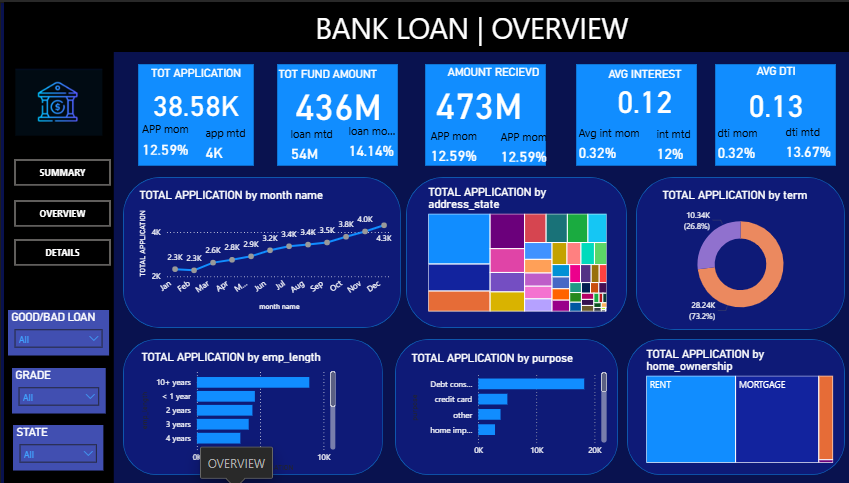

What the dashboard file says about the page in this screenshot:
{"tool":"powerbi","page":{"name":"OVERVIEW","canvas":[1280,720],"ordinal":1},"visuals":[{"type":"shape","box":[4.5,0,1269.7,720],"z":0},{"type":"card","title":"AVG DTI","fields":{"Values":["date.Avg dti"]},"box":[1074.5,92.1,176.2,95.2],"z":0,"group":"g4"},{"type":"card","title":"TOT APPLICATION","fields":{"Values":["date.TOTAL APPLICATION"]},"box":[199.8,95.2,194.1,90.8],"z":0,"group":"g1"},{"type":"card","title":"TOT FUND AMOUNT","fields":{"Values":["date.TOT LOAN AMOUNT"]},"box":[415.9,96.8,188.8,87.4],"z":0,"group":"g5"},{"type":"card","title":"AVG INTEREST","fields":{"Values":["date.avg int"]},"box":[871.4,96.8,190.5,76.2],"z":0,"group":"g3"},{"type":"shape","box":[864.9,92.6,180.7,152.4],"z":1000},{"type":"cardVisual","fields":{"Data":["date.APP mom"]},"box":[198.4,175.8,112.6,60.1],"z":1000,"group":"g1"},{"type":"cardVisual","fields":{"Data":["date.dti mtd"]},"box":[1160.2,181,107.1,55.3],"z":1000,"group":"g4"},{"type":"shape","box":[639.3,92.6,180.7,152.4],"z":2000},{"type":"cardVisual","fields":{"Data":["date.app mtd"]},"box":[293.6,180,127.4,60.1],"z":2000,"group":"g1"},{"type":"cardVisual","fields":{"Data":["date.dti mom"]},"box":[1058.7,181,107.1,56.9],"z":2000,"group":"g4"},{"type":"shape","box":[418.3,92.6,180.7,152.4],"z":3000},{"type":"shape","box":[210.6,92.6,173.3,152.4],"z":4000},{"type":"shape","box":[1072.5,92.6,180.7,152.4],"z":5000},{"type":"shape","box":[10.5,61.2,164.3,658.8],"z":6000},{"type":"shape","box":[10.3,0,1269.7,74.7],"z":7000},{"type":"cardVisual","fields":{"Data":["date.avg int mom"]},"box":[850.8,180.9,127.8,60.8],"z":7000,"group":"g3"},{"type":"cardVisual","fields":{"Data":["date.int mtd"]},"box":[967.6,182.8,110.2,57.1],"z":8000,"group":"g3"},{"type":"shape","box":[188.2,261.4,415.3,225.6],"z":8000},{"type":"cardVisual","fields":{"Data":["date.APP mom"]},"box":[734,190,110.2,54.3],"z":9000,"group":"g2"},{"type":"shape","box":[188.2,503.4,388.4,203.2],"z":9000},{"type":"cardVisual","fields":{"Data":["date.APP mom"]},"box":[630.2,186.8,105.7,57.8],"z":10000,"group":"g2"},{"type":"shape","box":[954.5,261.4,312.2,228.5],"z":10000},{"type":"shape","box":[611,261.4,330.1,225.6],"z":11000},{"type":"lineChart","fields":{"Y":["date.TOTAL APPLICATION"],"Category":["date.month name"]},"box":[207.6,277.8,386.9,188.2],"z":12000},{"type":"cardVisual","fields":{"Data":["date.loan mtd"]},"box":[421.2,181.2,103.2,60.3],"z":13000,"group":"g5"},{"type":"treemap","fields":{"Group":["financial_loan.address_state"],"Values":["date.TOTAL APPLICATION"]},"box":[639.7,273,276.2,193.7],"z":13000},{"type":"cardVisual","fields":{"Data":["date.loan mom"]},"box":[508,175.8,105.8,62.3],"z":14000,"group":"g5"},{"type":"donutChart","fields":{"Y":["date.TOTAL APPLICATION"],"Category":["financial_loan.term"]},"box":[988.9,277.8,243.5,209.1],"z":14000},{"type":"shape","box":[941.1,503.4,325.6,203.2],"z":15000},{"type":"shape","box":[594.5,503.4,333.1,203.2],"z":16000},{"type":"clusteredBarChart","fields":{"Y":["date.TOTAL APPLICATION"],"Category":["financial_loan.emp_length"]},"box":[210.6,519.8,300.2,186.7],"z":17000},{"type":"cardVisual","title":"AMOUNT RECIEVD","fields":{"Data":["date.TOTAL PAYMENT"]},"box":[637.9,93.7,207.1,94.6],"z":18000,"group":"g2"},{"type":"clusteredBarChart","fields":{"Y":["date.TOTAL APPLICATION"],"Category":["financial_loan.purpose"]},"box":[613.9,521.3,301.7,165.8],"z":18000},{"type":"treemap","fields":{"Values":["date.TOTAL APPLICATION"],"Group":["financial_loan.home_ownership"]},"box":[965.1,515.9,288.9,177.8],"z":19000},{"type":"slicer","title":"GOOD/BAD LOAN","fields":{"Values":["financial_loan.GOOD/BAD LOAN"]},"box":[15.9,460.3,150.8,68.3],"z":20000},{"type":"slicer","title":"GRADE","fields":{"Values":["financial_loan.grade"]},"box":[22.2,546,139.7,68.3],"z":21000},{"type":"slicer","title":"STATE","fields":{"Values":["financial_loan.address_state"]},"box":[23.8,631.7,134.9,68.3],"z":22000},{"type":"image","box":[22.2,81,139.7,136.5],"z":23000},{"type":"textbox","box":[469.8,4.8,495.2,87.3],"z":24000},{"type":"group","id":"g1","title":"Group 2","box":[198.4,95.2,222.2,144.4],"z":25000},{"type":"group","id":"g2","title":"Group 1","box":[630.2,93.7,214.3,150.8],"z":26000},{"type":"group","id":"g3","title":"Group 4","box":[850.8,96.8,227,144.4],"z":27000},{"type":"group","id":"g4","title":"Group 5","box":[1058.7,92.1,207.9,144.4],"z":28000},{"type":"group","id":"g5","title":"Group 3","box":[415.9,96.8,198.4,144.4],"z":29000},{"type":"actionButton","box":[25.4,234.5,144.9,40.3],"z":29001},{"type":"actionButton","box":[25.4,295.8,144.9,40.3],"z":29002},{"type":"actionButton","box":[25.4,354,144.9,40.3],"z":29003}]}

Visuals, with their boxes in screenshot pixels (x1, y1, x2, y2), scaled from the page's 1280x720 canvas onto the 849x483 screenshot:
shape: (x1=3, y1=0, x2=845, y2=482)
"AVG DTI" card: (x1=713, y1=62, x2=830, y2=126)
"TOT APPLICATION" card: (x1=133, y1=64, x2=261, y2=125)
"TOT FUND AMOUNT" card: (x1=276, y1=65, x2=401, y2=124)
"AVG INTEREST" card: (x1=578, y1=65, x2=704, y2=116)
shape: (x1=574, y1=62, x2=694, y2=164)
cardVisual - date.APP mom: (x1=132, y1=118, x2=206, y2=158)
cardVisual - date.dti mtd: (x1=770, y1=121, x2=841, y2=159)
shape: (x1=424, y1=62, x2=544, y2=164)
cardVisual - date.app mtd: (x1=195, y1=121, x2=279, y2=161)
cardVisual - date.dti mom: (x1=702, y1=121, x2=773, y2=160)
shape: (x1=277, y1=62, x2=397, y2=164)
shape: (x1=140, y1=62, x2=255, y2=164)
shape: (x1=711, y1=62, x2=831, y2=164)
shape: (x1=7, y1=41, x2=116, y2=482)
shape: (x1=7, y1=0, x2=848, y2=50)
cardVisual - date.avg int mom: (x1=564, y1=121, x2=649, y2=162)
cardVisual - date.int mtd: (x1=642, y1=123, x2=715, y2=161)
shape: (x1=125, y1=175, x2=400, y2=327)
cardVisual - date.APP mom: (x1=487, y1=127, x2=560, y2=164)
shape: (x1=125, y1=338, x2=382, y2=474)
cardVisual - date.APP mom: (x1=418, y1=125, x2=488, y2=164)
shape: (x1=633, y1=175, x2=840, y2=329)
shape: (x1=405, y1=175, x2=624, y2=327)
lineChart - date.TOTAL APPLICATION x date.month name: (x1=138, y1=186, x2=394, y2=313)
cardVisual - date.loan mtd: (x1=279, y1=122, x2=348, y2=162)
treemap - financial_loan.address_state x date.TOTAL APPLICATION: (x1=424, y1=183, x2=607, y2=313)
cardVisual - date.loan mom: (x1=337, y1=118, x2=407, y2=160)
donutChart - date.TOTAL APPLICATION x financial_loan.term: (x1=656, y1=186, x2=817, y2=327)
shape: (x1=624, y1=338, x2=840, y2=474)
shape: (x1=394, y1=338, x2=615, y2=474)
clusteredBarChart - date.TOTAL APPLICATION x financial_loan.emp_length: (x1=140, y1=349, x2=339, y2=474)
"AMOUNT RECIEVD" cardVisual: (x1=423, y1=63, x2=560, y2=126)
clusteredBarChart - date.TOTAL APPLICATION x financial_loan.purpose: (x1=407, y1=350, x2=607, y2=461)
treemap - date.TOTAL APPLICATION x financial_loan.home_ownership: (x1=640, y1=346, x2=832, y2=465)
"GOOD/BAD LOAN" slicer: (x1=11, y1=309, x2=111, y2=355)
"GRADE" slicer: (x1=15, y1=366, x2=107, y2=412)
"STATE" slicer: (x1=16, y1=424, x2=105, y2=470)
image: (x1=15, y1=54, x2=107, y2=146)
textbox: (x1=312, y1=3, x2=640, y2=62)
"Group 2" group: (x1=132, y1=64, x2=279, y2=161)
"Group 1" group: (x1=418, y1=63, x2=560, y2=164)
"Group 4" group: (x1=564, y1=65, x2=715, y2=162)
"Group 5" group: (x1=702, y1=62, x2=840, y2=159)
"Group 3" group: (x1=276, y1=65, x2=407, y2=162)
actionButton: (x1=17, y1=157, x2=113, y2=184)
actionButton: (x1=17, y1=198, x2=113, y2=225)
actionButton: (x1=17, y1=237, x2=113, y2=265)
